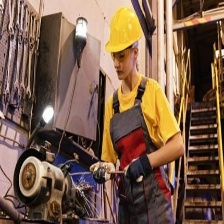helmet: (105, 4, 146, 56)
no-vest: (102, 77, 179, 224)
person: (99, 7, 187, 224)
